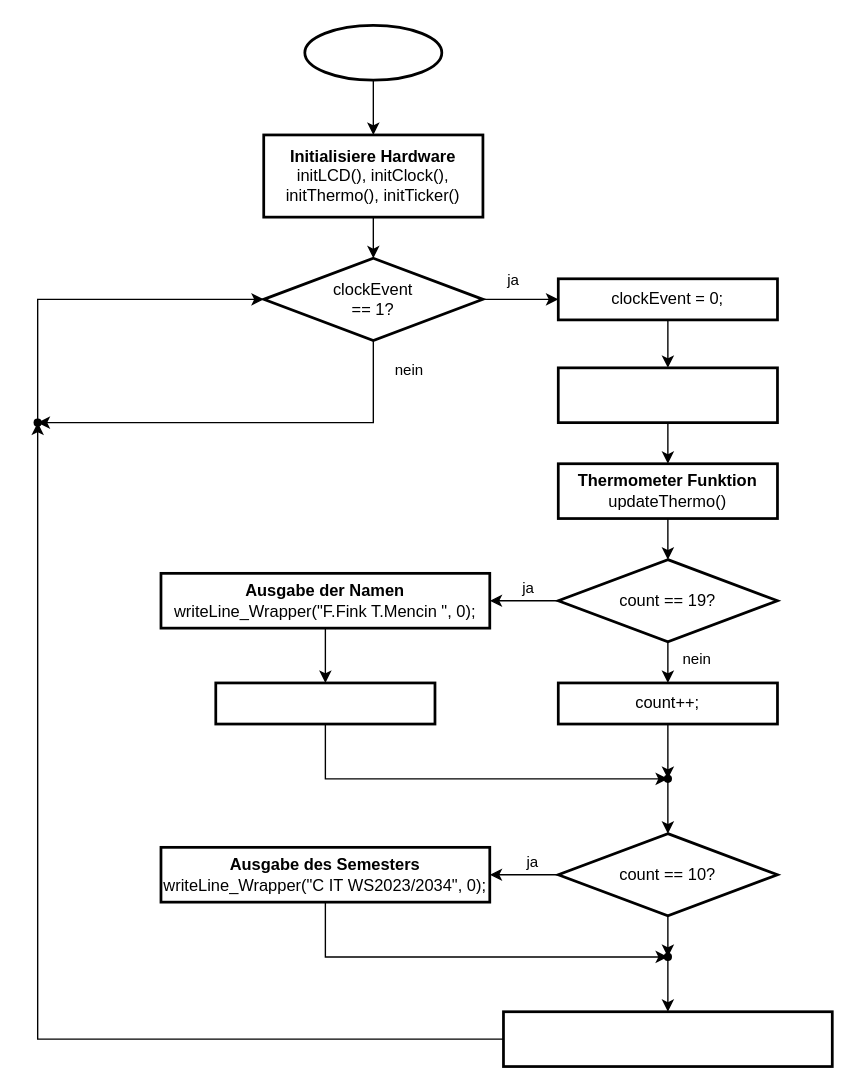
Some shapes in this 858 by 1091 pixel diagram are drawn without their labels. The shapes that lost their labels are listed below. From the top down, each one's box as (x1, y1, x2, y2) in pixels, then its label:
(303, 23, 443, 81): main.c
(556, 366, 778, 423): Uhr Funktion tickClock()
(214, 681, 436, 725): count = 0;
(501, 1010, 833, 1067): Ausgabe von Zeit und Temperatur writeLine_Wrapper(outputString, 1);
